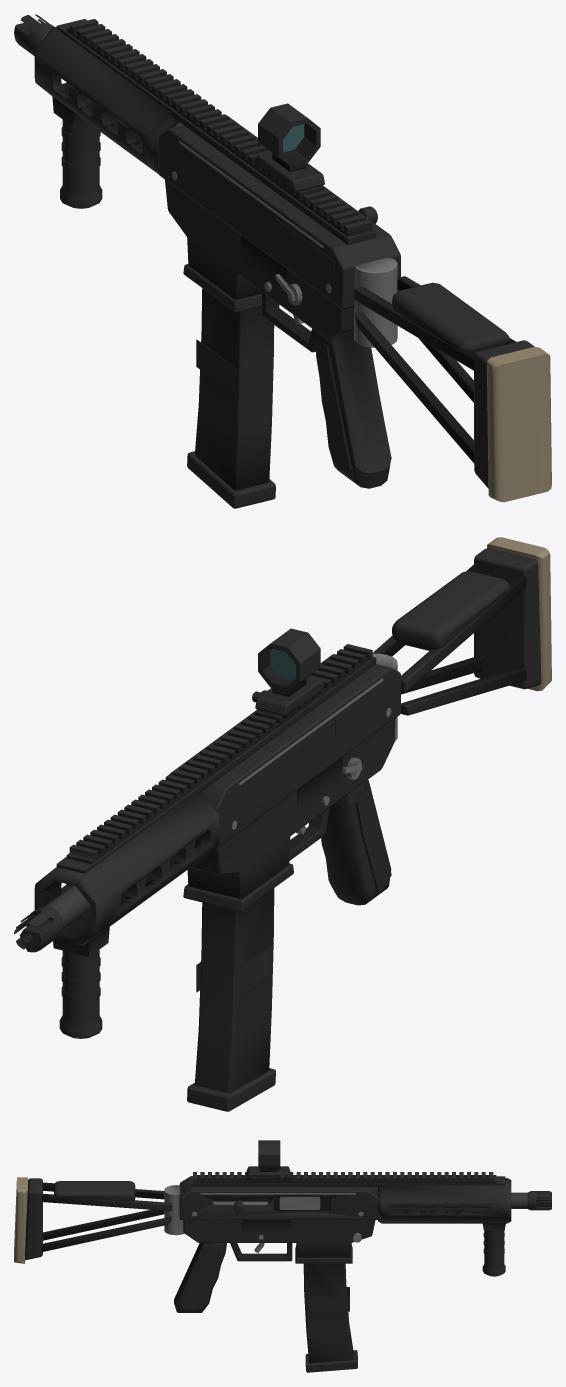
The model's file is kestrel_smg.glb.
The picture shows the model from 3 angles, top to bottom: view 1: azimuth 30°, elevation 25°; view 2: azimuth 150°, elevation 25°; view 3: azimuth 270°, elevation 25°; orthographic projection. The views are drawn at different scales.
Visible parts, largest first — view 1: Receiver, FoldingStock, Magazine, Grip, Barrel; view 2: Receiver, FoldingStock, Magazine, Grip, Barrel; view 3: Receiver, FoldingStock, Magazine, Grip, Barrel, Bolt.
Part boxes in pixels (box(x1,y1,x2,y2)): Receiver: box(34, 19, 400, 352); FoldingStock: box(354, 257, 551, 502); Magazine: box(187, 288, 275, 508); Grip: box(314, 330, 391, 488); Barrel: box(14, 14, 183, 126); Receiver: box(34, 628, 400, 1038); FoldingStock: box(372, 537, 551, 741); Magazine: box(187, 888, 275, 1111); Grip: box(321, 779, 391, 905); Barrel: box(14, 885, 90, 952); Receiver: box(179, 1140, 511, 1276); FoldingStock: box(14, 1177, 184, 1263); Magazine: box(303, 1263, 357, 1372); Grip: box(174, 1243, 226, 1312); Barrel: box(390, 1191, 551, 1210); Bolt: box(279, 1196, 320, 1209).
Bounding box in the file's own units: 0.0775 × 0.3356 × 0.727.
